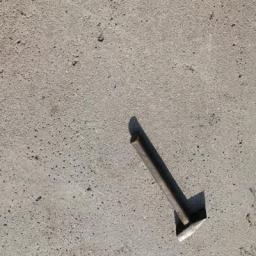FOD: (127, 118, 210, 243)
